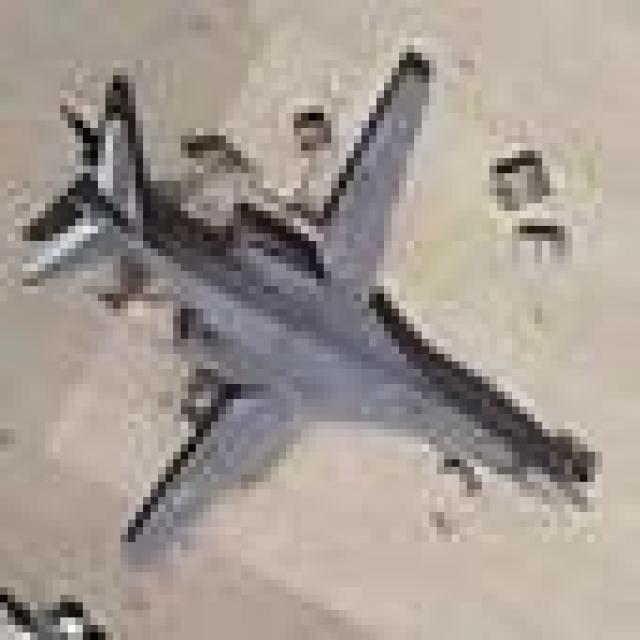B-1_TopDown: (15, 38, 602, 550)
